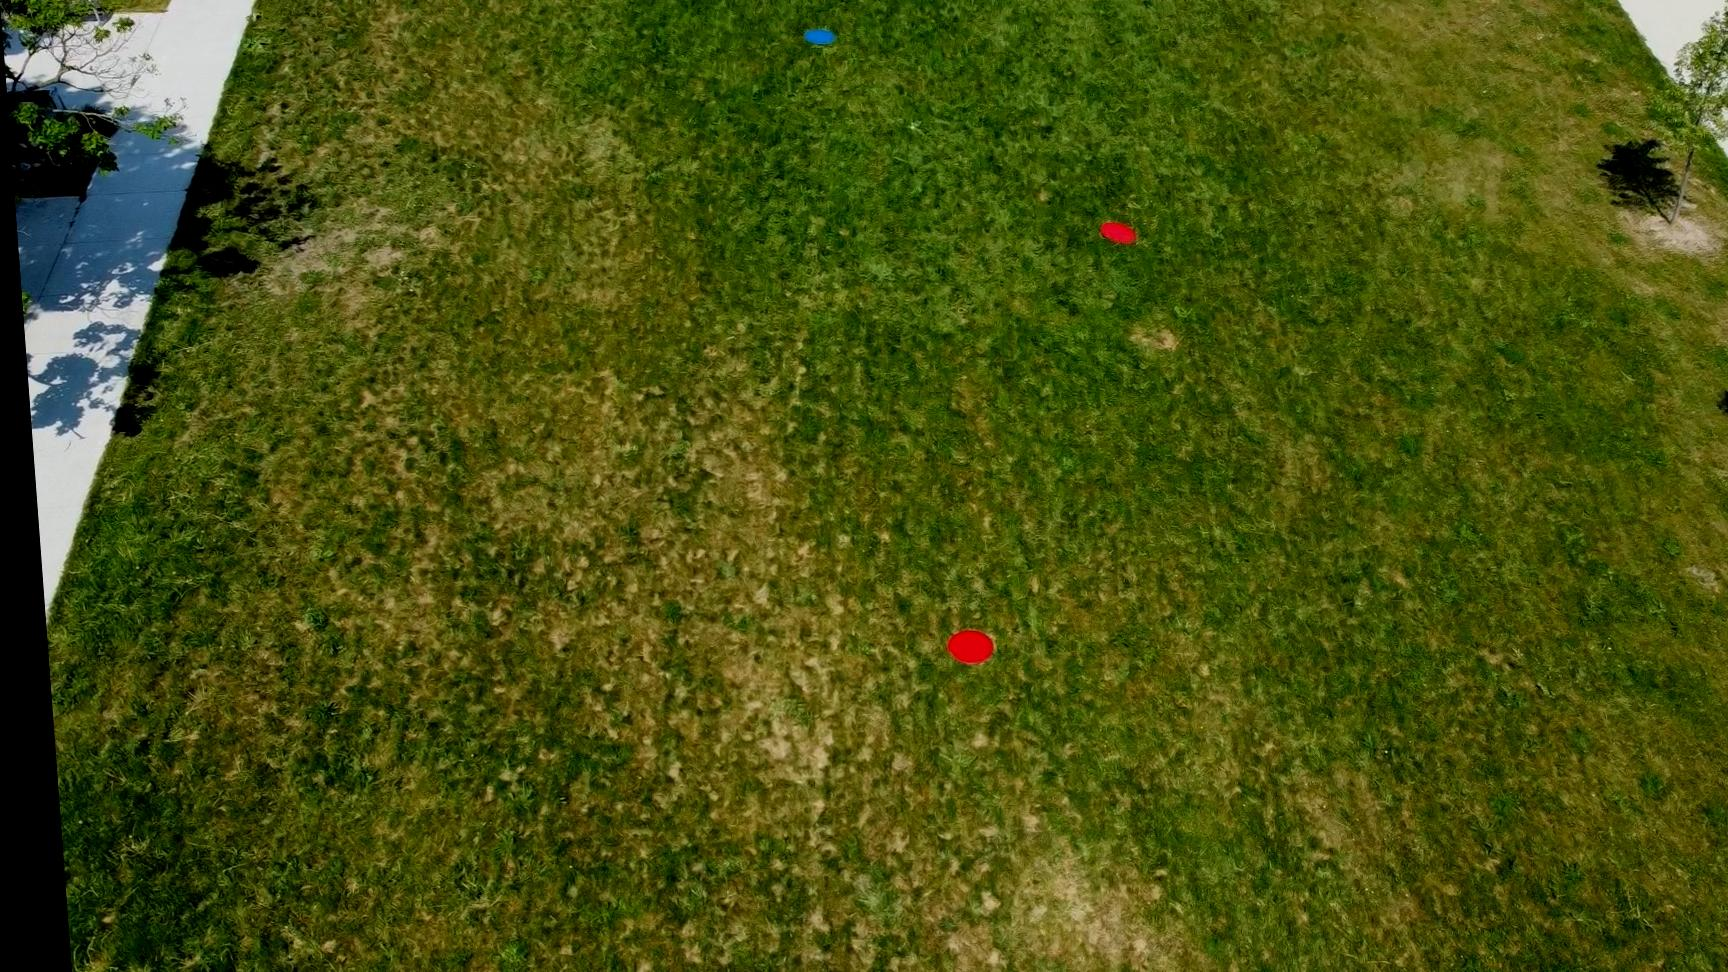Blue: (798, 26, 840, 50)
Red: (932, 627, 989, 666), (1089, 220, 1137, 250)
